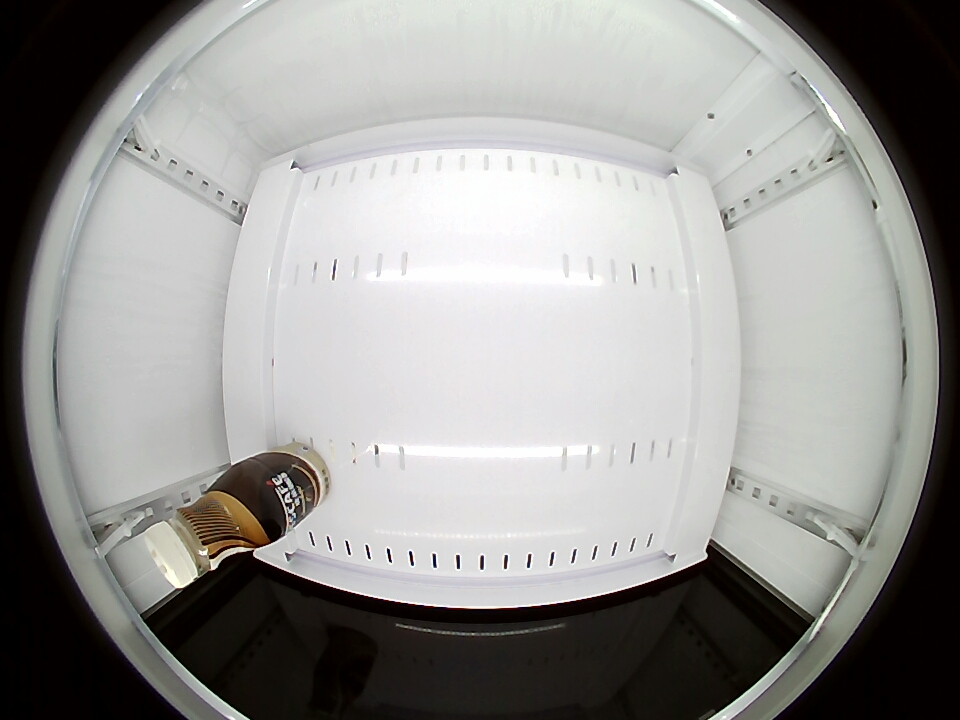kafei: (146, 472, 278, 589)
